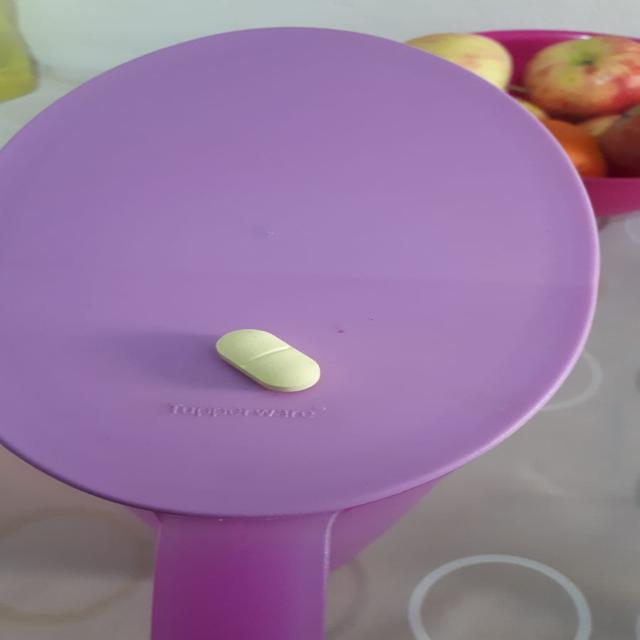pills: (200, 317, 331, 396)
